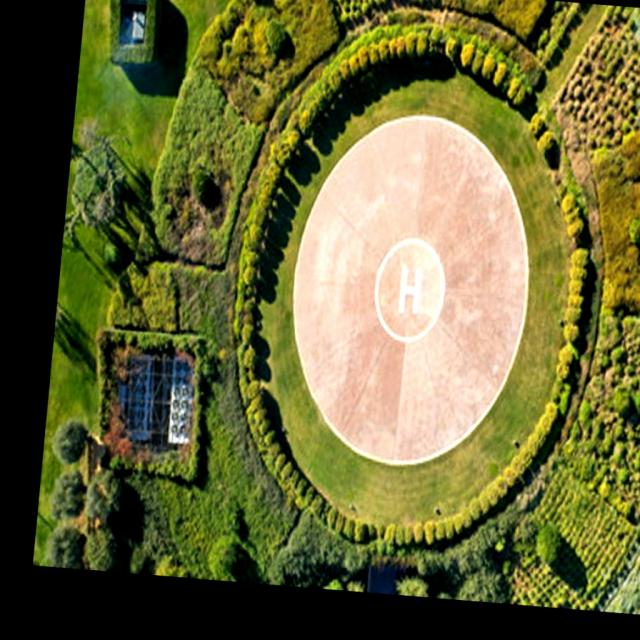helipad: (369, 234, 448, 346)
